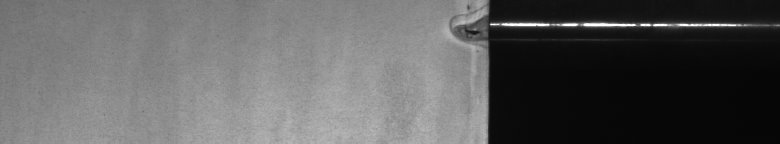hb: (444, 4, 476, 51)
